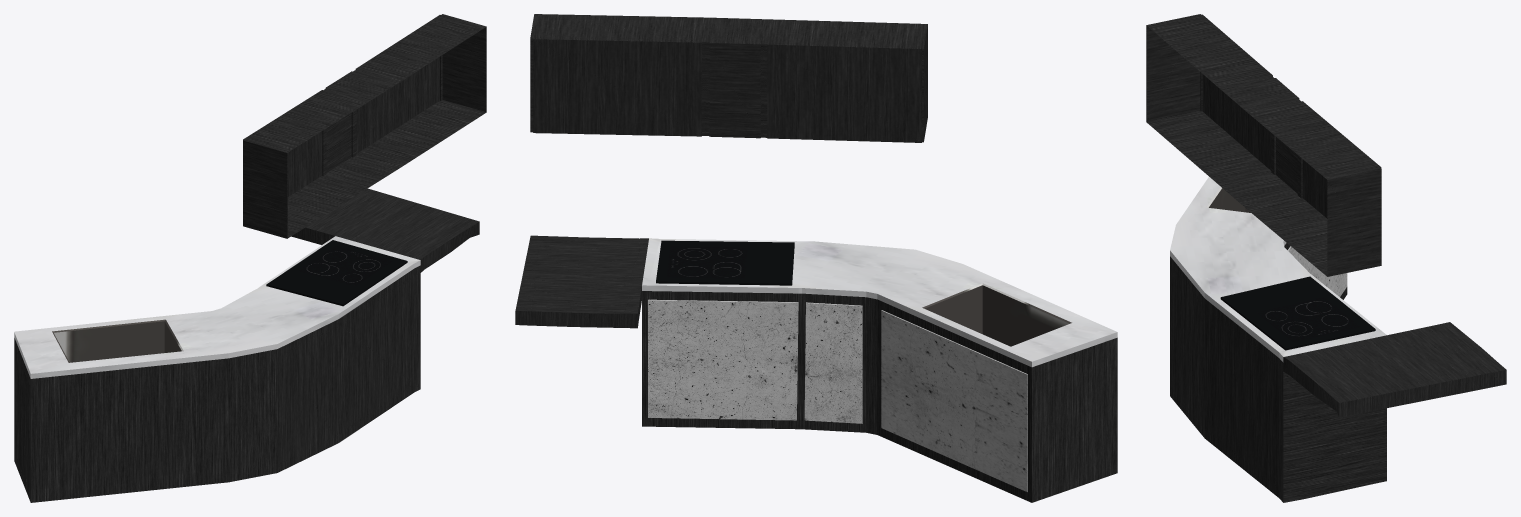
Rendered from KitchenNEW.fbx.
3 views of the same model, side by side, from view 1: azimuth 30°, elevation 25°; view 2: azimuth 150°, elevation 25°; view 3: azimuth 270°, elevation 25° (orthographic). The views are drawn at different scales.
Parts seen in each view (by area): view 1: Kitchen bottom.001, Shelves, Kitchen plate, desk, ceran field, Sink; view 2: Shelves, Kitchen bottom, Kitchen bottom.001, Kitchen plate, desk, ceran field, Sink; view 3: Shelves, Kitchen bottom.001, desk, Kitchen plate, ceran field, Kitchen bottom, Sink.
Boxes of the visible parts, x1,y1,x2,y2 form: Kitchen bottom.001: (14, 265, 420, 502); Shelves: (243, 14, 486, 238); Kitchen plate: (14, 236, 420, 378); desk: (291, 188, 479, 272); ceran field: (266, 240, 407, 306); Sink: (52, 319, 183, 362); Shelves: (530, 14, 927, 142); Kitchen bottom: (648, 299, 1027, 492); Kitchen bottom.001: (642, 291, 1117, 502); Kitchen plate: (642, 238, 1117, 367); desk: (515, 235, 648, 328); ceran field: (656, 240, 794, 285); Sink: (922, 283, 1071, 346); Shelves: (1146, 14, 1381, 276); Kitchen bottom.001: (1170, 243, 1386, 502); desk: (1283, 322, 1506, 417); Kitchen plate: (1170, 177, 1386, 362); ceran field: (1220, 276, 1375, 350); Kitchen bottom: (1287, 246, 1347, 296); Sink: (1206, 187, 1250, 212).
Size of the model in its own units: 560 by 355 by 313.
